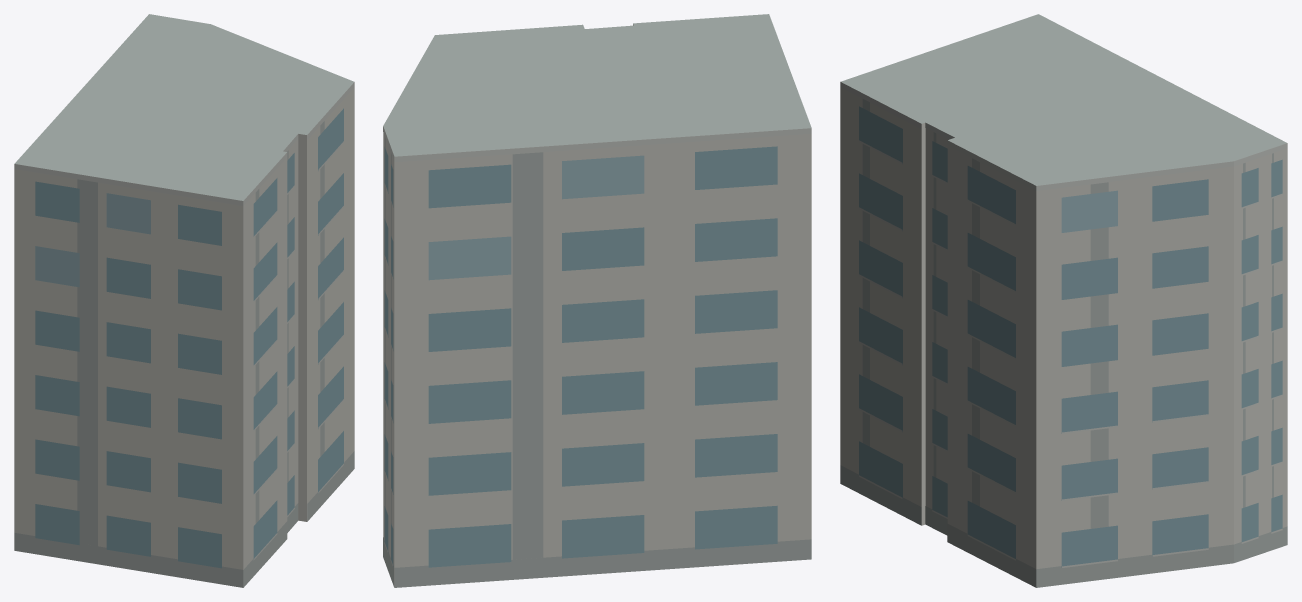
Rendered from survey-upis-32702083.glb.
3 views of the same model, side by side, from view 1: azimuth 30°, elevation 25°; view 2: azimuth 150°, elevation 25°; view 3: azimuth 270°, elevation 25° (orthographic). The views are drawn at different scales.
Visible parts, largest first — view 1: survey-upis-32702083.tmp; view 2: survey-upis-32702083.tmp; view 3: survey-upis-32702083.tmp.
Boxes of the visible parts, x1,y1,x2,y2 form: survey-upis-32702083.tmp: (14, 14, 354, 587); survey-upis-32702083.tmp: (383, 14, 811, 587); survey-upis-32702083.tmp: (840, 14, 1287, 587).
Size of the model in its own units: 16.89 by 18.4 by 18.56.
